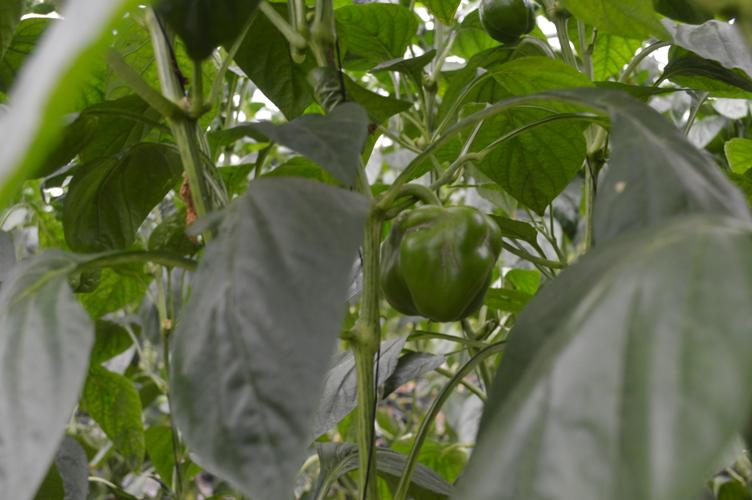BellPepper: (376, 204, 500, 325)
